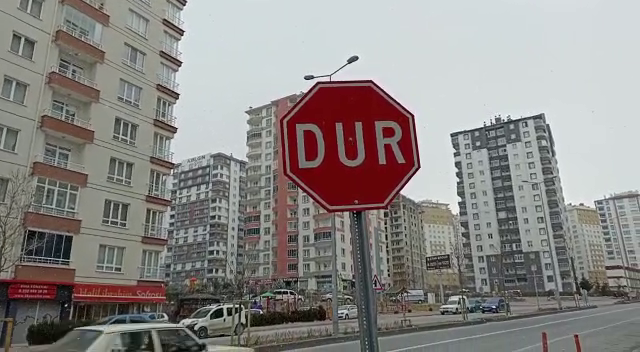stop: (276, 75, 425, 218)
